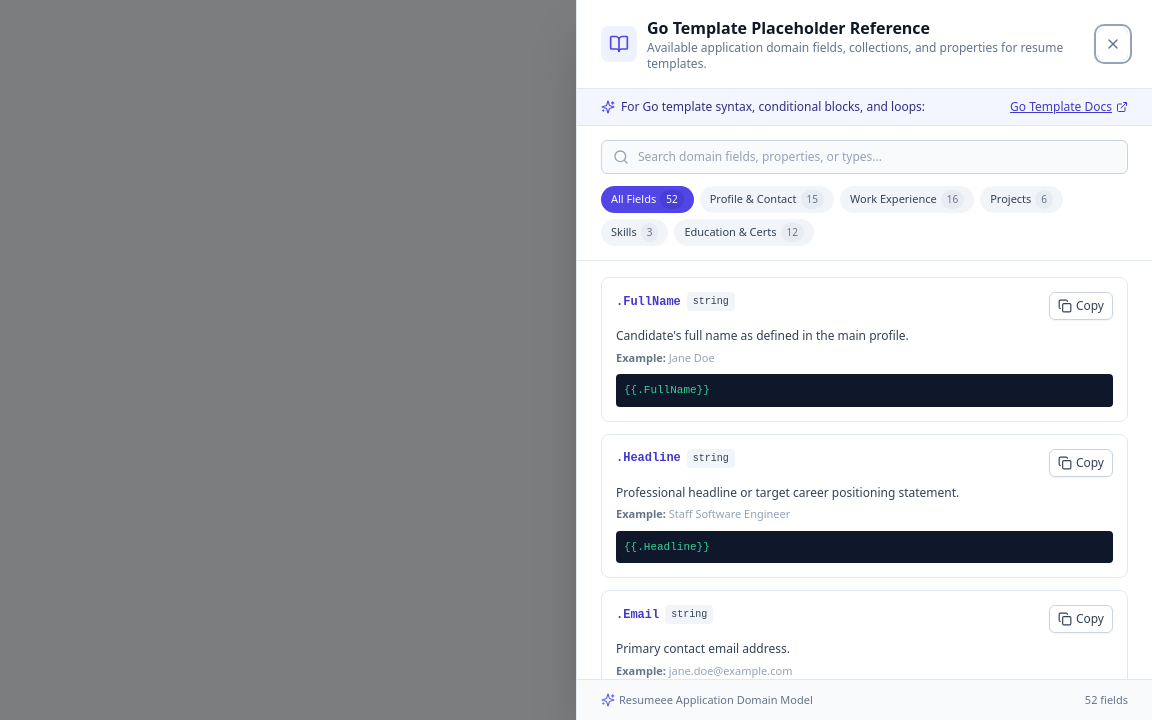
Test case: TemplateReferenceDrawer Component › resets search query when clear button is clicked
The width and height of the screenshot is (1152, 720).
Type "SupervisorContact" into the field with placeholder "Search domain fields, properties, or types...".
click(864, 157); type("SupervisorContact")  # box top-left (601, 140), bottom-right (1128, 174)
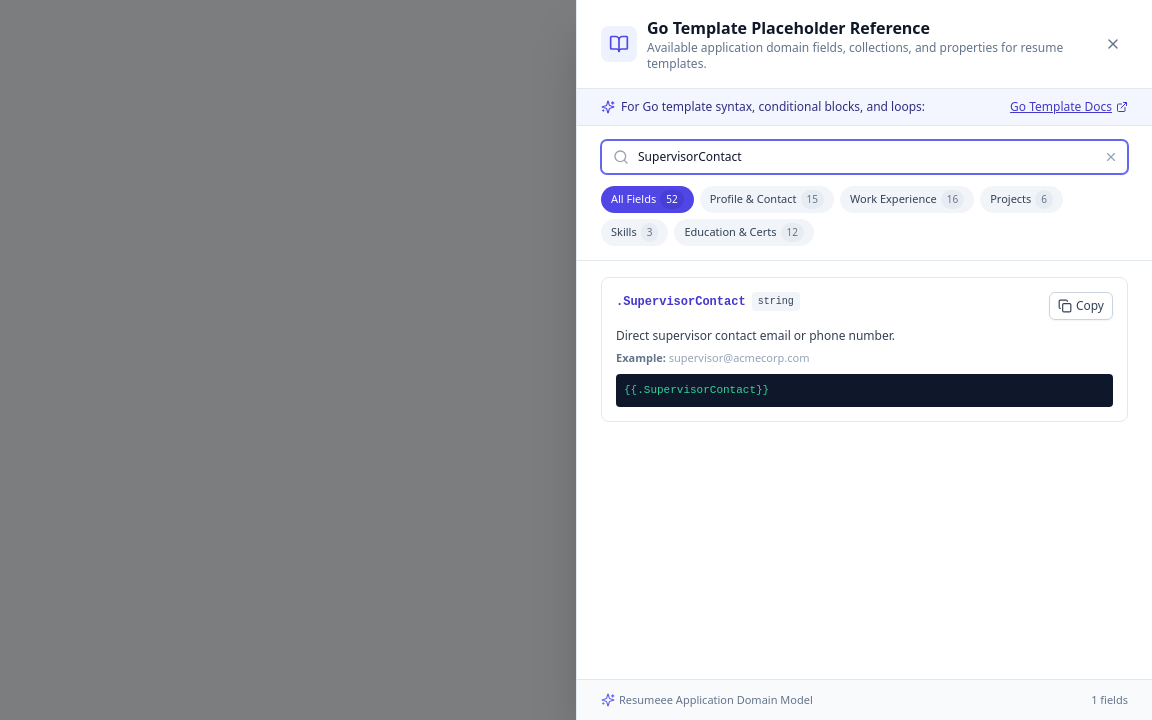
Result: the text "{{.FullName}}" is gone
Result: the button named "clear search query" is shown
Click the button named "clear search query".
click(1111, 157)  # box top-left (1104, 150), bottom-right (1118, 164)
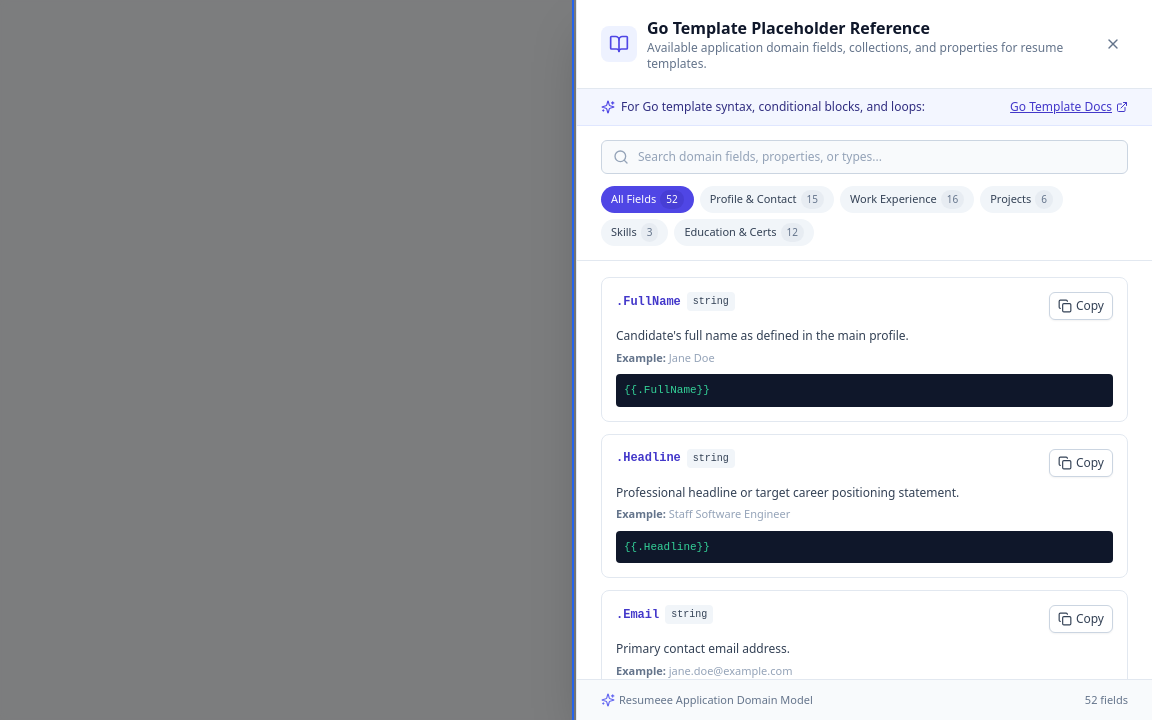
Result: the field with placeholder "Search domain fields, properties, or types..." is empty at top-left (601, 140), bottom-right (1128, 174)
Result: the text "{{.FullName}}" is shown at top-left (624, 384), bottom-right (710, 396)
